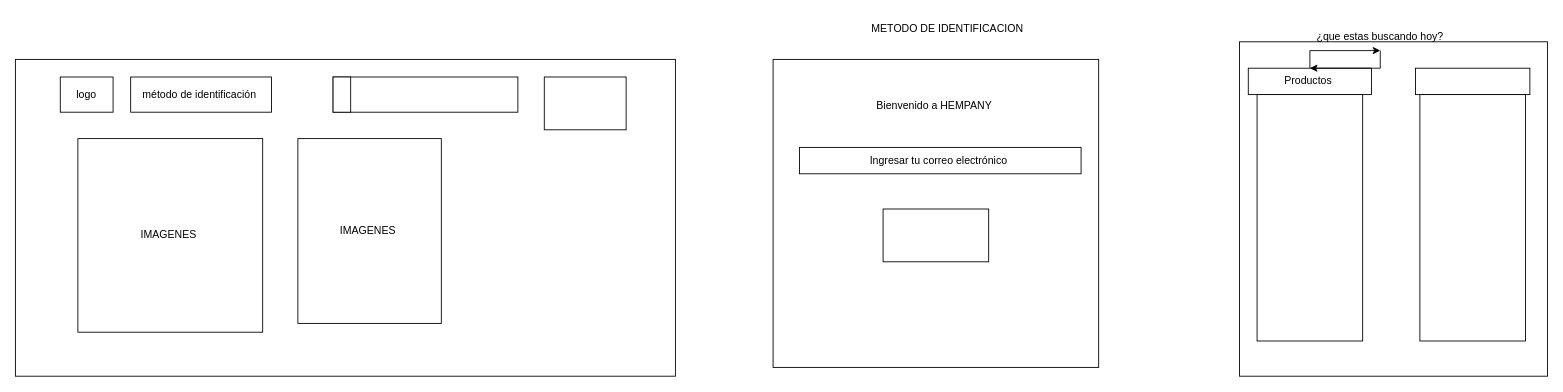
Image size: 1563x392. Some labels were removed from this diagram. The box of each missing label's shape, as (x1, y1, x2, y2) in pixels:
carrito: (543, 76, 626, 130)
Ingresar: (882, 208, 989, 262)
Precios: (1415, 67, 1530, 95)
¿Qué estas buscando hoy?: (332, 76, 518, 112)
